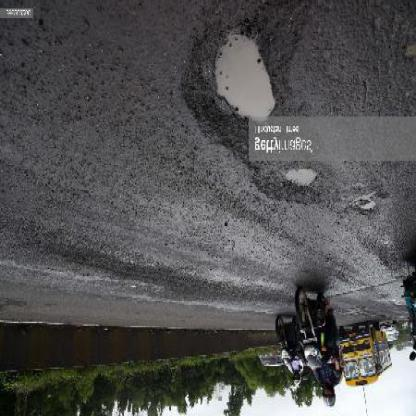pothole: (180, 2, 307, 151), (248, 164, 331, 211), (349, 188, 383, 219)
